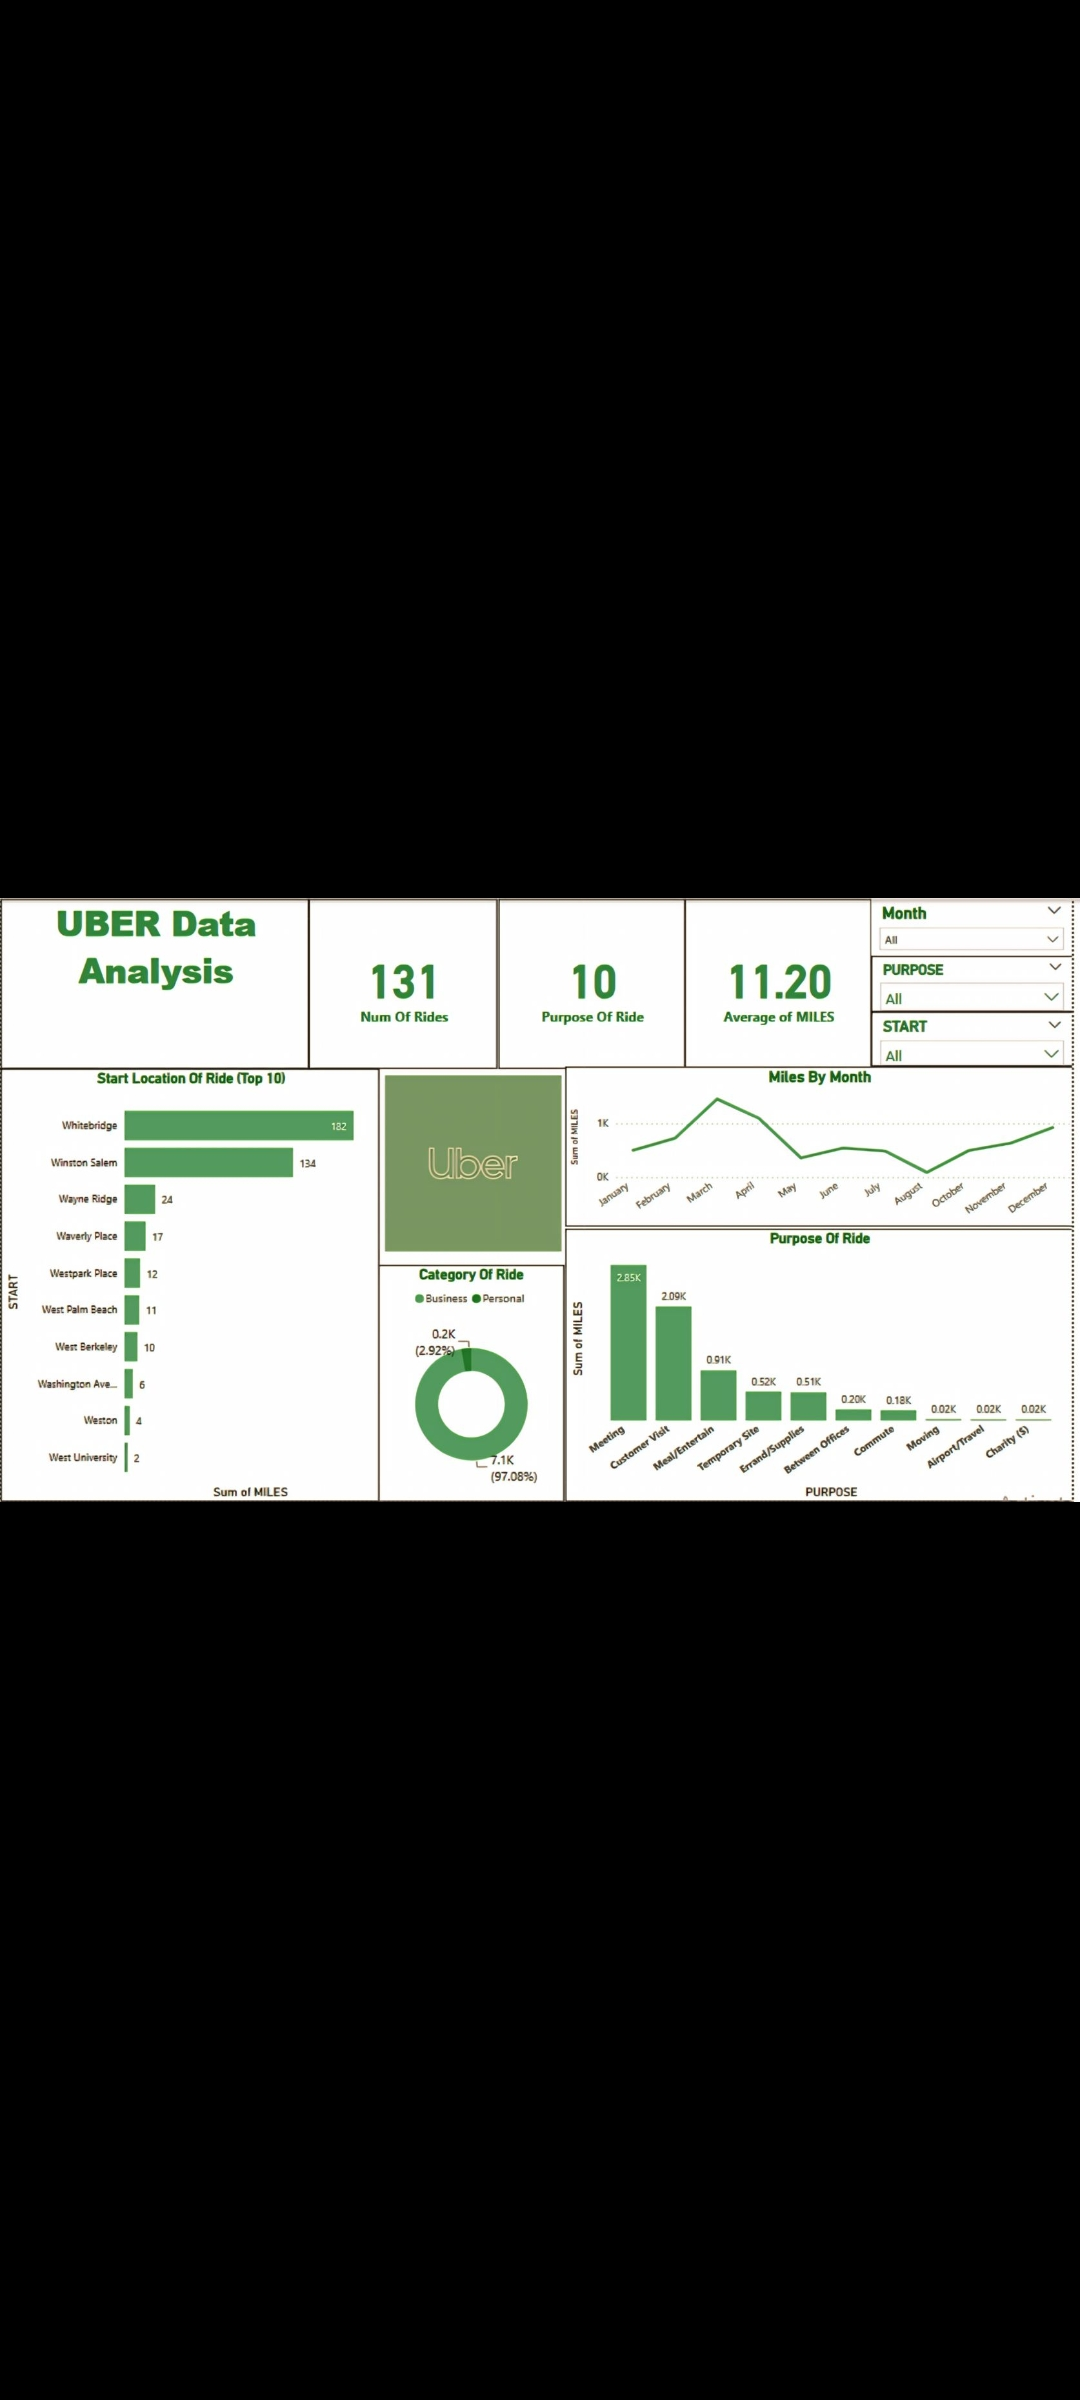

Layout of this report page (visuals, bound fields, positions):
{"tool":"powerbi","page":{"name":"Page 1","canvas":[1280,720],"ordinal":0},"visuals":[{"type":"donutChart","title":"Category Of Ride","fields":{"Y":["Sum(UberDataset.MILES)"],"Category":["UberDataset.CATEGORY"]},"box":[449.6,437.2,224.1,283.2],"z":0},{"type":"barChart","title":"Start Location Of Ride (Top 10)","fields":{"Category":["UberDataset.START"],"Y":["Sum(UberDataset.MILES)"]},"box":[0,203.5,452.3,516.9],"z":2000},{"type":"card","fields":{"Values":["Avg(UberDataset.MILES)"]},"box":[816.7,0,222.7,203.5],"z":3000},{"type":"card","fields":{"Values":["UberDataset.Purpose Of Ride"]},"box":[593.9,0,222.7,203.5],"z":4000},{"type":"card","fields":{"Values":["UberDataset.Num Of Rides"]},"box":[368.5,0,225.5,203.5],"z":5000},{"type":"slicer","fields":{"Values":["UberDataset.PURPOSE"]},"box":[1039.4,68.1,240.9,66.8],"z":6000},{"type":"slicer","fields":{"Values":["UberDataset.START"]},"box":[1039.4,134.8,240.9,65.5],"z":7000},{"type":"textbox","title":"UBER Data Analysis","box":[0,0,368.5,203.5],"z":8000},{"type":"image","box":[453.7,0,220,632.4],"z":9000},{"type":"lineChart","title":"Miles By Month","fields":{"Category":["UberDataset.START_DATE.Variation.Date Hierarchy.Month"],"Y":["Sum(UberDataset.MILES)"]},"box":[674.2,200.3,606.1,191.1],"z":9001},{"type":"columnChart","title":"Purpose Of Ride","fields":{"Category":["UberDataset.PURPOSE"],"Y":["Sum(UberDataset.MILES)"]},"box":[673.7,394.6,606.3,325.8],"z":9002},{"type":"slicer","fields":{"Values":["UberDataset.START_DATE.Variation.Date Hierarchy.Month"]},"box":[1039.4,0,239.6,68.1],"z":9003}]}

Visuals, with their boxes in screenshot pixels (x1, y1, x2, y2):
"Category Of Ride" donutChart: 375 1258 561 1494
"Start Location Of Ride (Top 10)" barChart: 0 1063 377 1494
card - Avg(UberDataset.MILES): 680 894 866 1063
card - UberDataset.Purpose Of Ride: 495 894 680 1063
card - UberDataset.Num Of Rides: 307 894 495 1063
slicer - UberDataset.PURPOSE: 866 950 1067 1006
slicer - UberDataset.START: 866 1006 1067 1061
"UBER Data Analysis" textbox: 0 894 307 1063
image: 378 894 561 1421
"Miles By Month" lineChart: 562 1061 1067 1220
"Purpose Of Ride" columnChart: 561 1222 1066 1494
slicer - UberDataset.START_DATE.Variation.Date Hierarchy.Month: 866 894 1065 950
